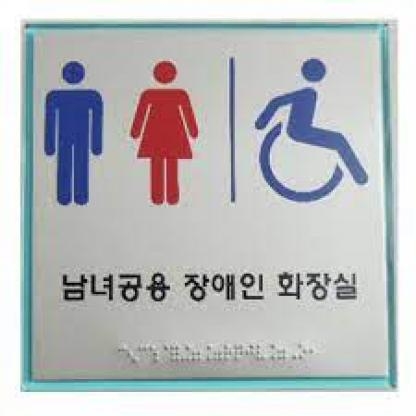toilet: (40, 52, 369, 220)
